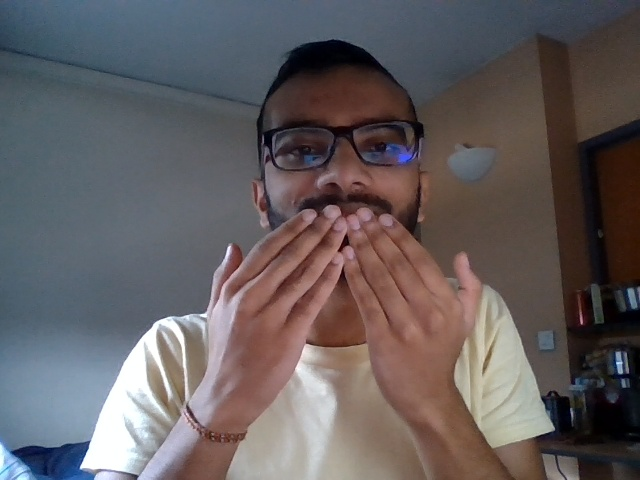Thanks: (172, 194, 490, 387)
